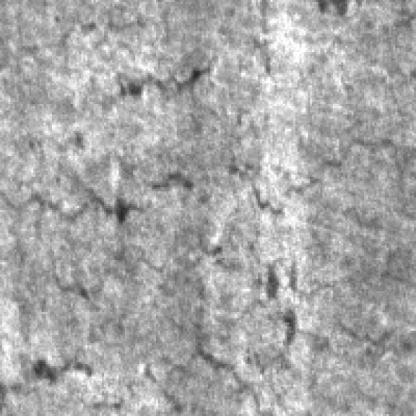crazing: (12, 231, 410, 412), (56, 71, 412, 208)
